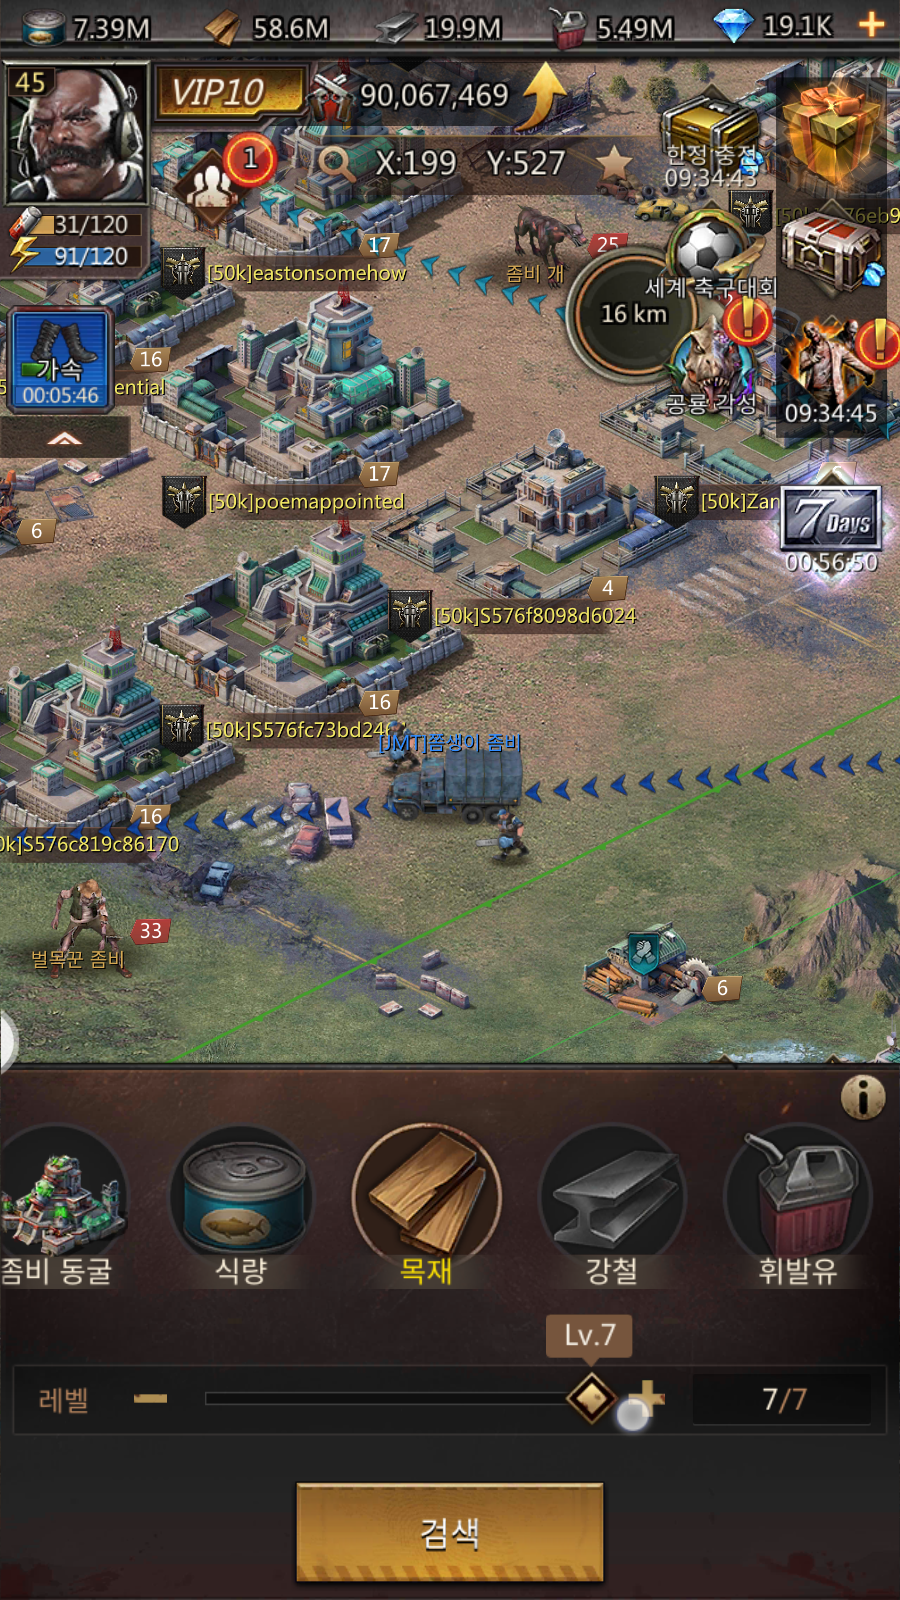rss_food_in_panel: (168, 1120, 319, 1295)
rss_gas_in_panel: (722, 1125, 870, 1290)
rss_lv7: (548, 1312, 632, 1356)
rss_minus_in_panel: (119, 1363, 178, 1429)
rss_search_in_panel: (295, 1485, 603, 1580)
rss_steel_in_panel: (544, 1116, 688, 1298)
rss_wood_in_panel: (351, 1119, 502, 1293)
troops_cnt_1: (162, 120, 295, 249)
